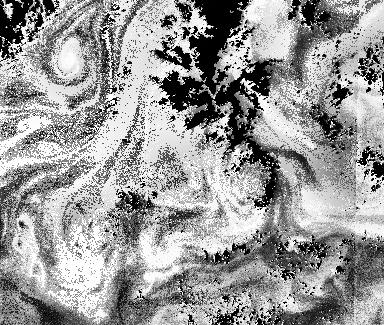CE: (38, 23, 100, 91)
